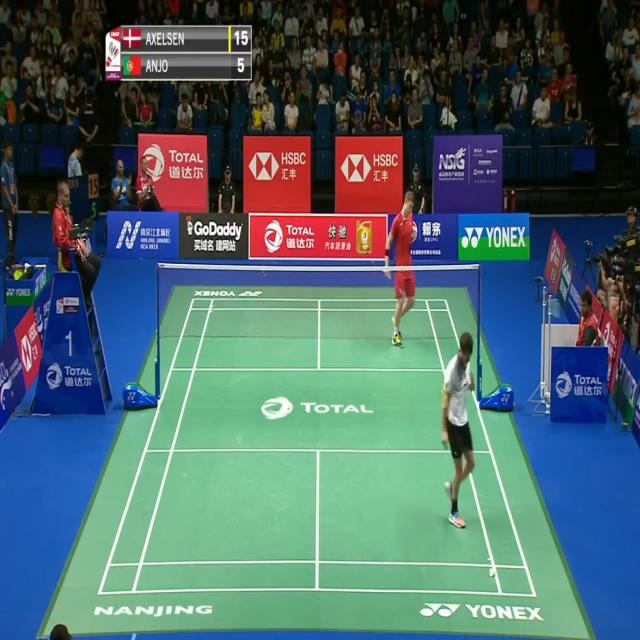Player1: (438, 326, 480, 534)
Player2: (379, 181, 423, 354)
